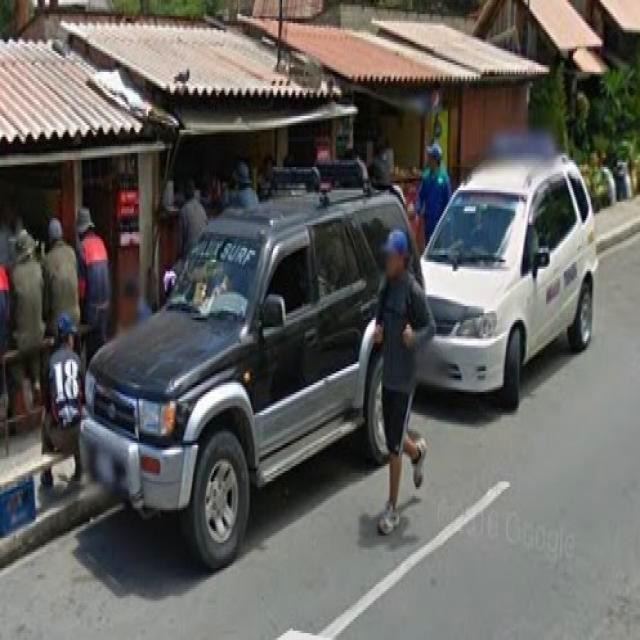Car: (89, 196, 412, 548), (429, 146, 602, 414)
